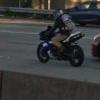Motorcycle: (28, 14, 89, 73)
